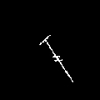treble_crochet: (40, 36, 72, 81)
